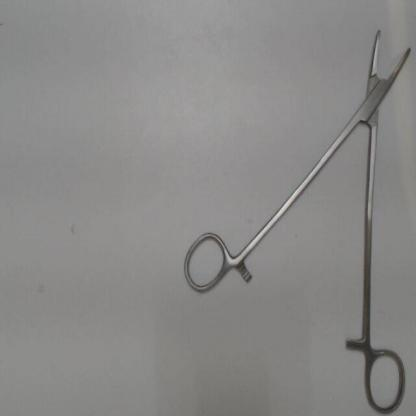8 Mayo Needle Holder: (175, 17, 415, 416)
